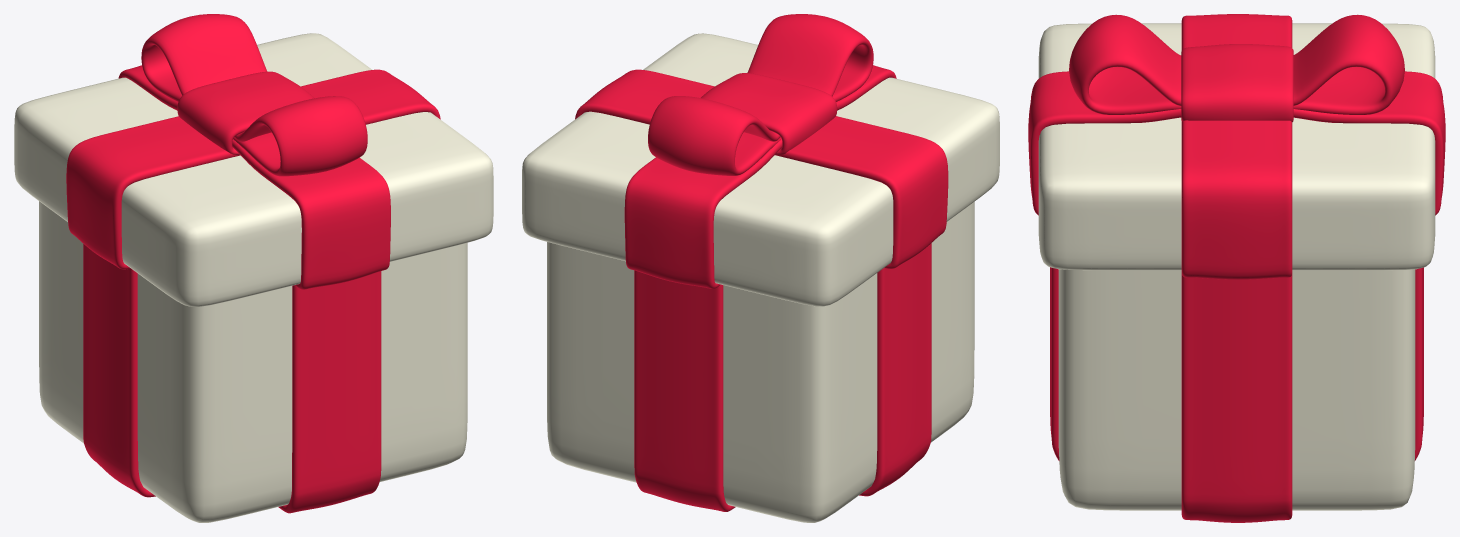
The model's file is paket.glb.
3 renders of one model, left to right at view 1: azimuth 30°, elevation 25°; view 2: azimuth 150°, elevation 25°; view 3: azimuth 270°, elevation 25°, orthographic. The views are drawn at different scales.
Parts seen in each view (by area): view 1: Box, Lid, Box-ribbon-bottom, Lid-ribbon-loop.001, Lid-ribbon-bottom, Box-ribbon-top, Lid-ribbon-top, Lid-ribbon-loop; view 2: Box, Lid, Box-ribbon-bottom, Lid-ribbon-loop.001, Lid-ribbon-bottom, Box-ribbon-top, Lid-ribbon-top, Lid-ribbon-loop; view 3: Box, Lid, Box-ribbon-top, Lid-ribbon-bottom, Lid-ribbon-loop.001, Lid-ribbon-loop, Lid-ribbon-top, Box-ribbon-bottom.
Part boxes in pixels (x1=…): Box: x1=39, y1=201, x2=467, y2=522; Lid: x1=14, y1=33, x2=493, y2=306; Box-ribbon-bottom: x1=278, y1=271, x2=381, y2=513; Lid-ribbon-loop.001: x1=141, y1=14, x2=367, y2=176; Lid-ribbon-bottom: x1=66, y1=69, x2=440, y2=269; Box-ribbon-top: x1=83, y1=244, x2=155, y2=497; Lid-ribbon-top: x1=118, y1=65, x2=390, y2=289; Lid-ribbon-loop: x1=177, y1=71, x2=314, y2=154; Box: x1=547, y1=202, x2=974, y2=522; Lid: x1=522, y1=33, x2=999, y2=306; Box-ribbon-bottom: x1=634, y1=270, x2=735, y2=511; Lid-ribbon-loop.001: x1=648, y1=14, x2=873, y2=175; Lid-ribbon-bottom: x1=575, y1=69, x2=948, y2=268; Box-ribbon-top: x1=859, y1=243, x2=931, y2=496; Lid-ribbon-top: x1=624, y1=65, x2=896, y2=288; Lid-ribbon-loop: x1=701, y1=73, x2=837, y2=155; Box: x1=1058, y1=269, x2=1415, y2=510; Lid: x1=1038, y1=23, x2=1435, y2=270; Box-ribbon-top: x1=1181, y1=273, x2=1292, y2=522; Lid-ribbon-bottom: x1=1181, y1=14, x2=1292, y2=279; Lid-ribbon-loop.001: x1=1069, y1=14, x2=1404, y2=114; Lid-ribbon-loop: x1=1181, y1=44, x2=1293, y2=122; Lid-ribbon-top: x1=1028, y1=71, x2=1445, y2=215; Box-ribbon-bottom: x1=1050, y1=267, x2=1423, y2=460.
Bounding box in the file's own units: 0.5835 × 0.6773 × 0.5848.
Materials: 2 (2 with a texture image).
